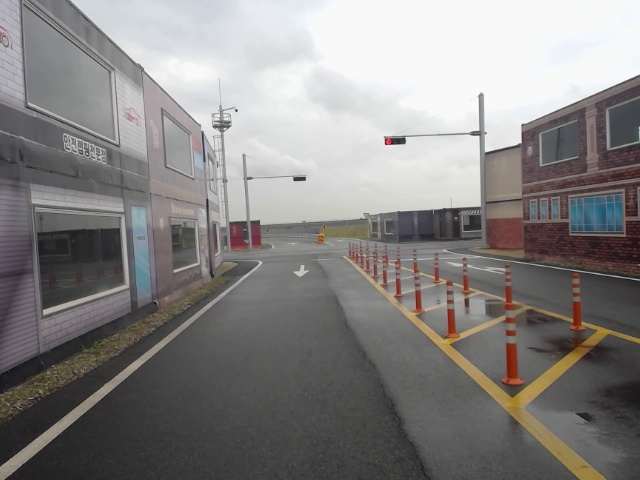red_3: (384, 135, 407, 146)
